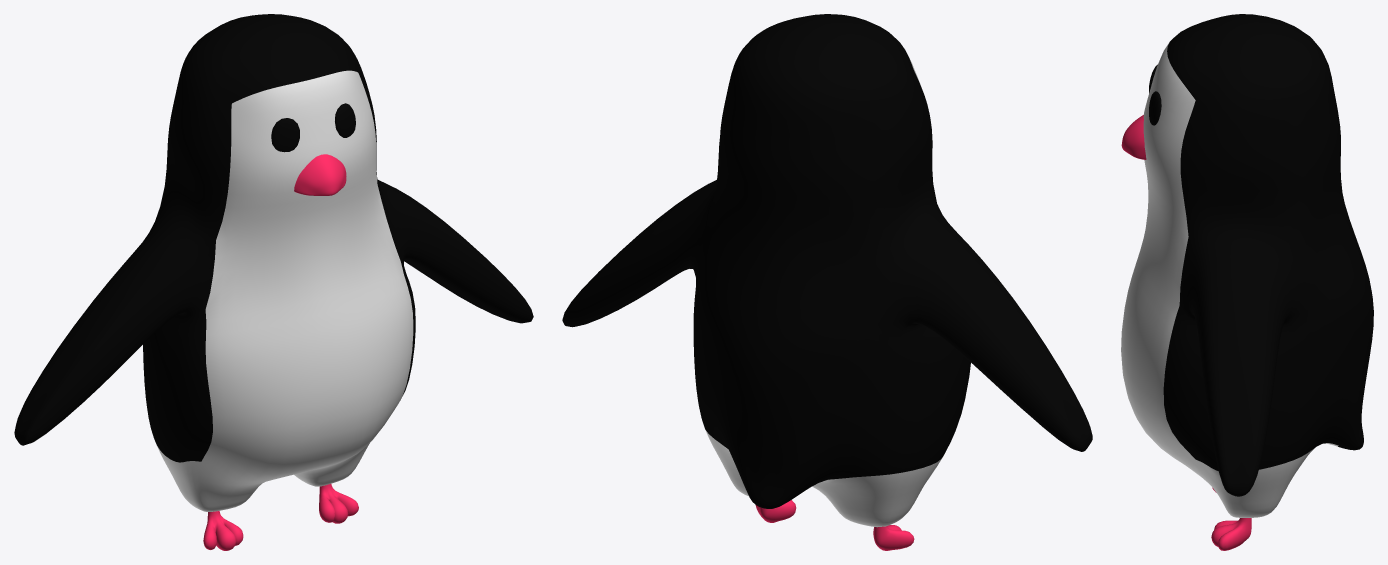
The model's file is penguin.fbx.
3 views of the same model, side by side, from view 1: azimuth 30°, elevation 25°; view 2: azimuth 150°, elevation 25°; view 3: azimuth 270°, elevation 25° (orthographic). The views are drawn at different scales.
Visible parts, largest first — view 1: Cube; view 2: Cube; view 3: Cube.
Boxes of the visible parts, x1,y1,x2,y2 form: Cube: (14,14,533,550); Cube: (562,14,1092,550); Cube: (1121,14,1373,550).
Bounding box in the file's own units: 301 × 284 × 131.
